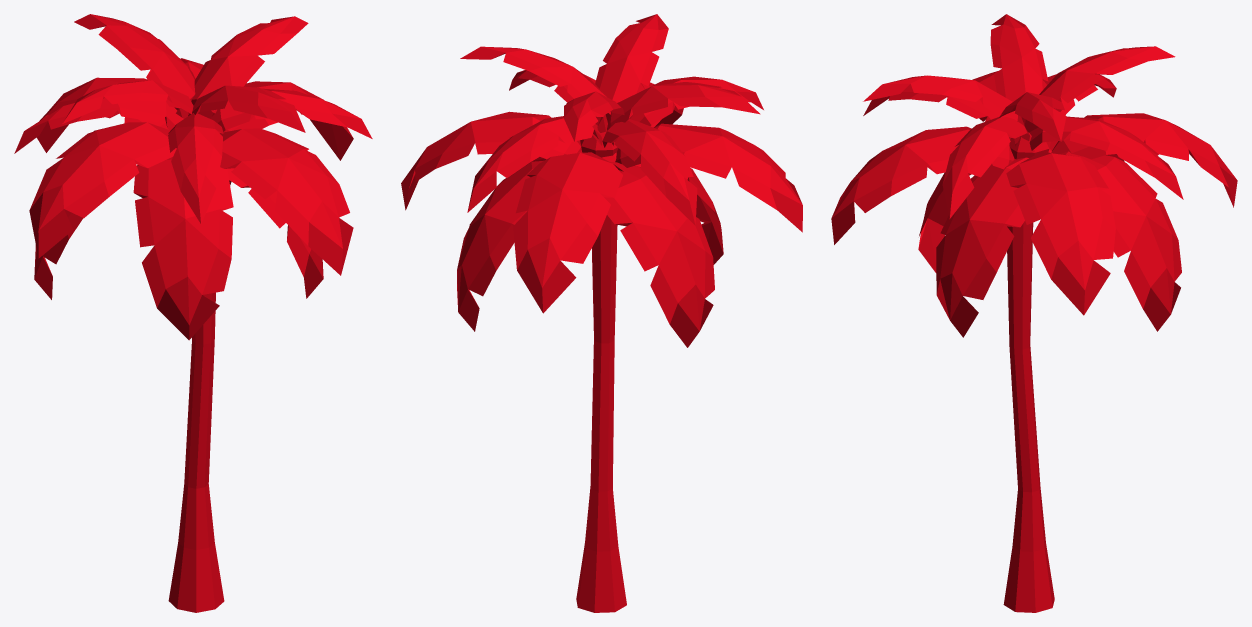
File: palma.fbx
3 views of the same model, side by side, from view 1: azimuth 30°, elevation 25°; view 2: azimuth 150°, elevation 25°; view 3: azimuth 270°, elevation 25° (orthographic). The views are drawn at different scales.
Parts seen in each view (by area): view 1: Nature Stuff; view 2: Nature Stuff; view 3: Nature Stuff.
Part boxes in pixels (left/top/right/bottom): Nature Stuff: left=14, top=14, right=372, bottom=612; Nature Stuff: left=401, top=14, right=802, bottom=612; Nature Stuff: left=831, top=14, right=1237, bottom=612.
Size of the model in its own units: 1849 by 2721 by 1865.
